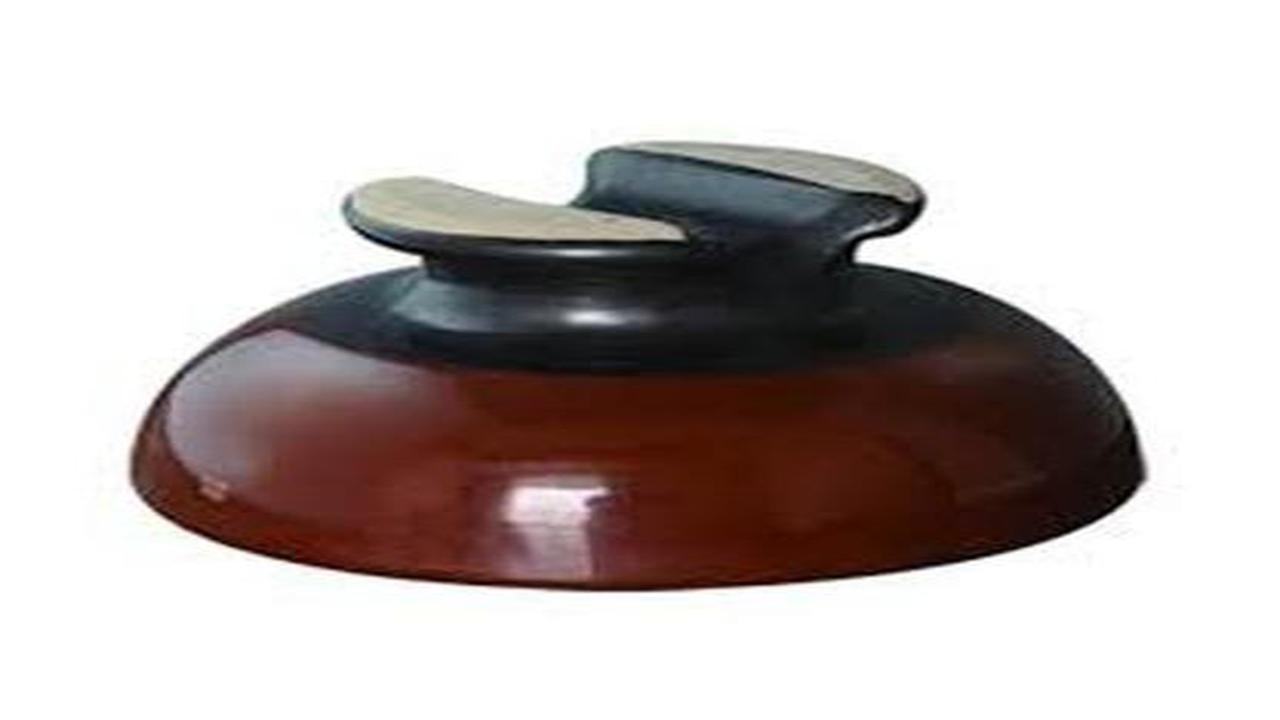insulator_pin: (124, 137, 1164, 601)
